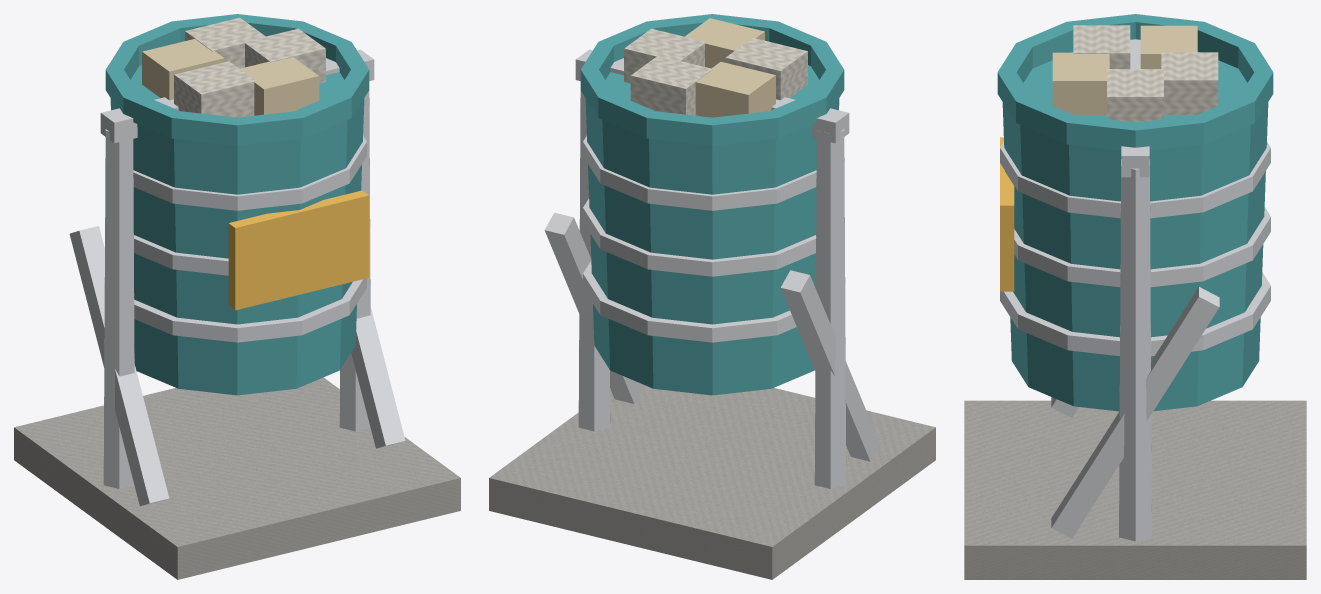
Rendered from indian-bazaar-street-and-temple-street-bin-3aeaa2eb.glb.
3 renders of one model, left to right at view 1: azimuth 30°, elevation 25°; view 2: azimuth 150°, elevation 25°; view 3: azimuth 270°, elevation 25°, orthographic. The views are drawn at different scales.
Parts seen in each view (by area): view 1: street-bin-stone, street-bin-teal, street-bin-steel, street-bin-saffron, street-bin-plaster, street-bin-jute; view 2: street-bin-teal, street-bin-stone, street-bin-steel, street-bin-plaster, street-bin-jute; view 3: street-bin-teal, street-bin-stone, street-bin-steel, street-bin-plaster, street-bin-jute, street-bin-saffron.
Boxes of the visible parts, x1,y1,x2,y2 form: street-bin-stone: (14, 377, 460, 579); street-bin-teal: (105, 14, 369, 395); street-bin-steel: (69, 49, 405, 506); street-bin-saffron: (228, 190, 368, 310); street-bin-plaster: (174, 17, 325, 117); street-bin-jute: (142, 39, 319, 115); street-bin-teal: (580, 14, 844, 395); street-bin-stone: (489, 385, 935, 579); street-bin-steel: (544, 49, 880, 488); street-bin-plaster: (624, 28, 807, 115); street-bin-jute: (685, 18, 775, 117); street-bin-teal: (997, 14, 1273, 411); street-bin-stone: (964, 400, 1306, 579); street-bin-steel: (1000, 39, 1270, 541); street-bin-plaster: (1073, 25, 1218, 122); street-bin-jute: (1052, 25, 1197, 115); street-bin-saffron: (1000, 137, 1014, 291).
Size of the model in its own units: 0.72 by 1.04 by 0.72.
Materials: 6 (2 with a texture image).
